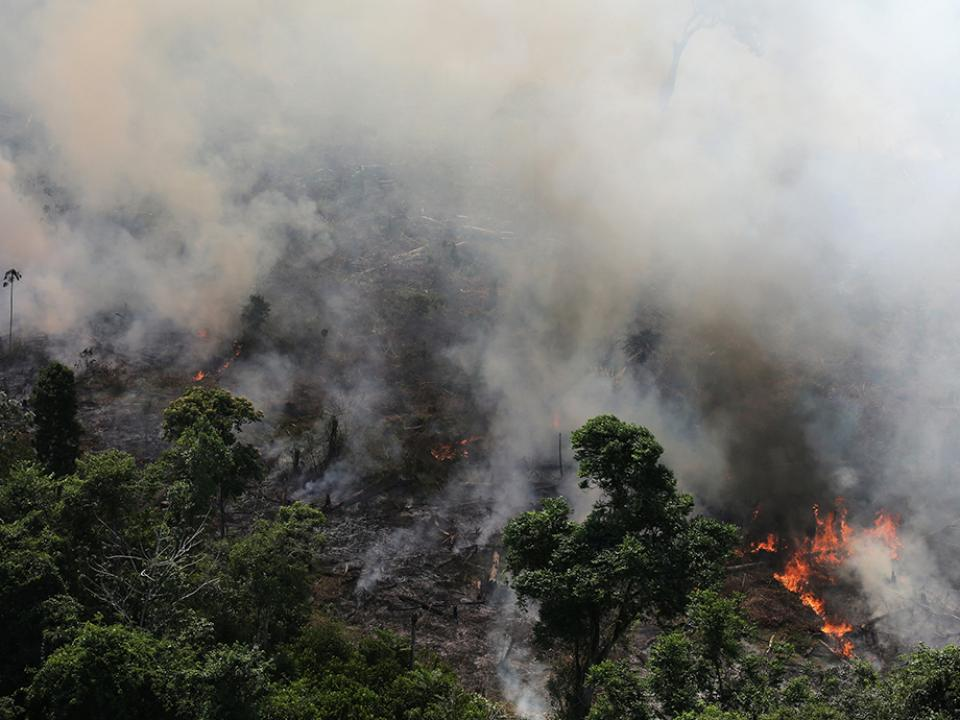fire: (673, 400, 955, 704), (154, 254, 271, 397), (403, 401, 513, 538)
